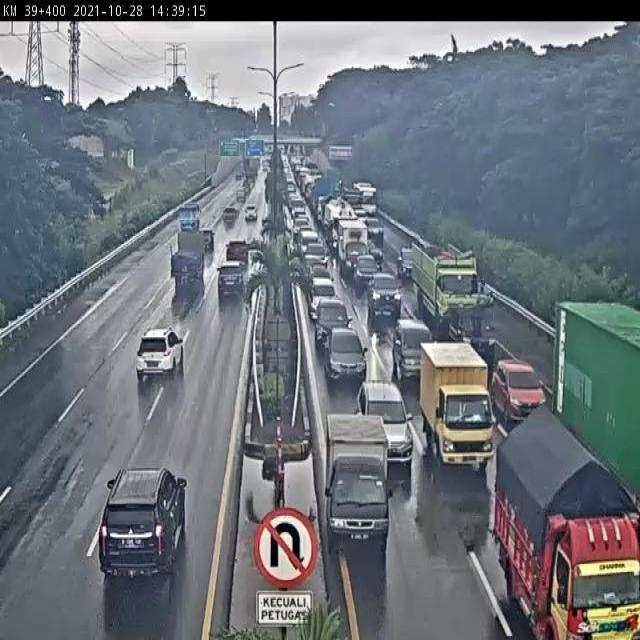big truck: (539, 281, 640, 539), (407, 232, 478, 329)
car: (87, 458, 203, 582), (357, 361, 425, 471), (489, 352, 552, 440), (127, 326, 190, 390), (322, 322, 369, 387), (388, 312, 431, 380), (442, 296, 493, 353), (315, 296, 353, 355), (213, 259, 254, 304), (367, 271, 403, 317), (220, 237, 259, 275), (216, 206, 238, 233), (242, 203, 262, 228)
mid truck: (469, 377, 635, 640), (410, 333, 492, 475), (159, 219, 215, 300)
small truck: (315, 393, 397, 543), (176, 200, 210, 235)
